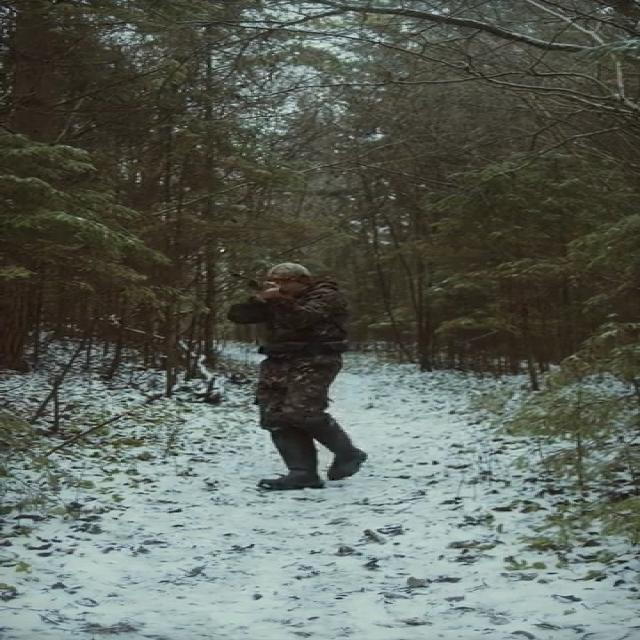Gun_Holder: (216, 270, 288, 299)
Person: (231, 258, 385, 487)
